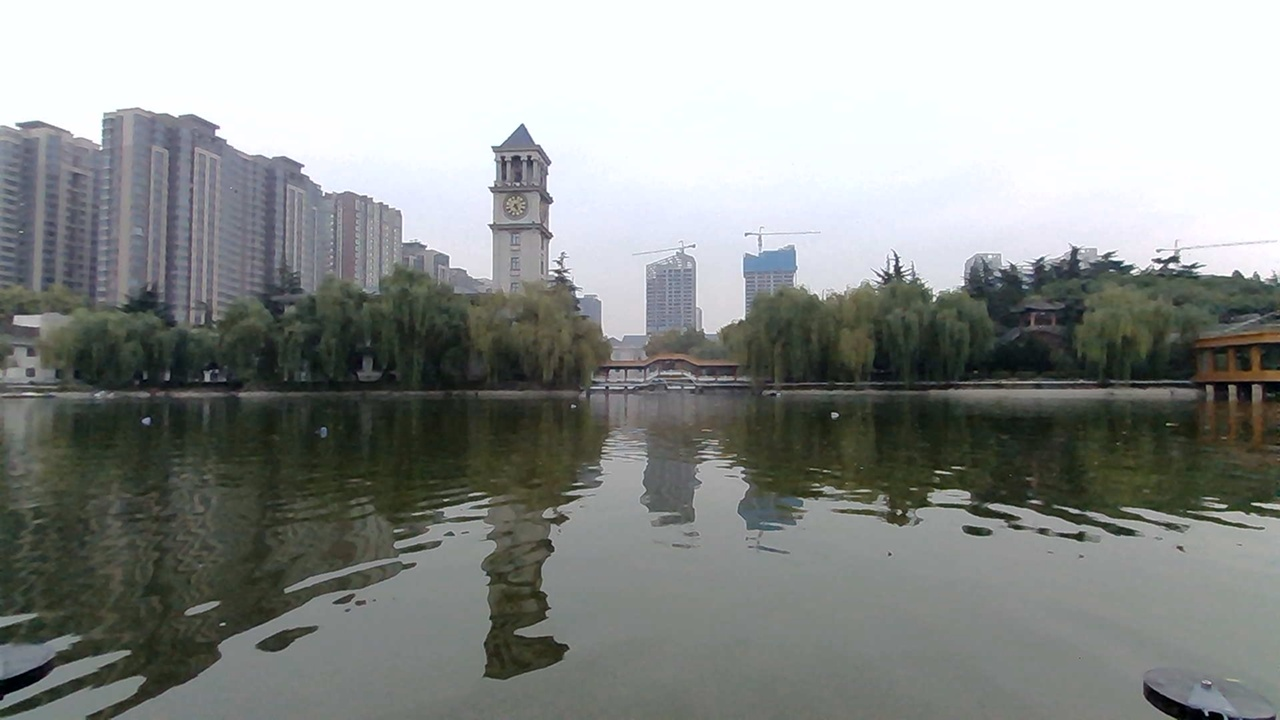bottle: (810, 403, 854, 425), (304, 421, 338, 443), (137, 404, 158, 432)
